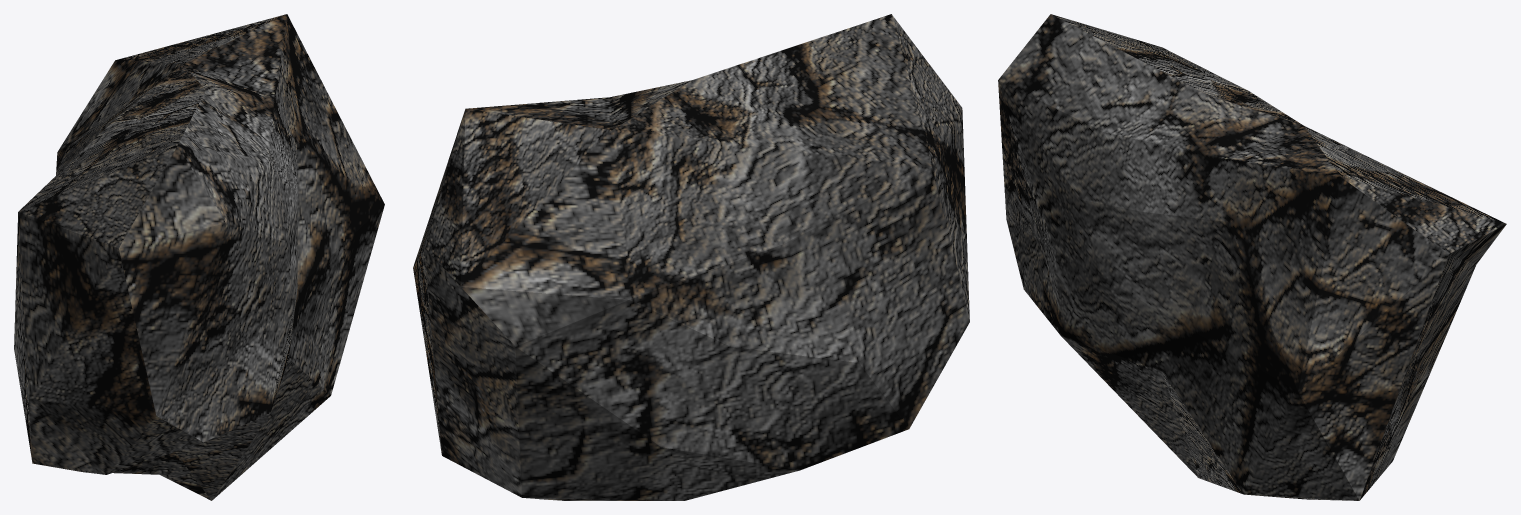
File: Stone2.gltf
3 views of the same model, side by side, from view 1: azimuth 30°, elevation 25°; view 2: azimuth 150°, elevation 25°; view 3: azimuth 270°, elevation 25° (orthographic). The views are drawn at different scales.
Parts seen in each view (by area): view 1: Icosphere; view 2: Icosphere; view 3: Icosphere.
Boxes of the visible parts, x1,y1,x2,y2 form: Icosphere: [14, 14, 384, 500]; Icosphere: [413, 14, 969, 500]; Icosphere: [998, 14, 1506, 500].
Bounding box in the file's own units: 3.75 × 3.48 × 3.9.
